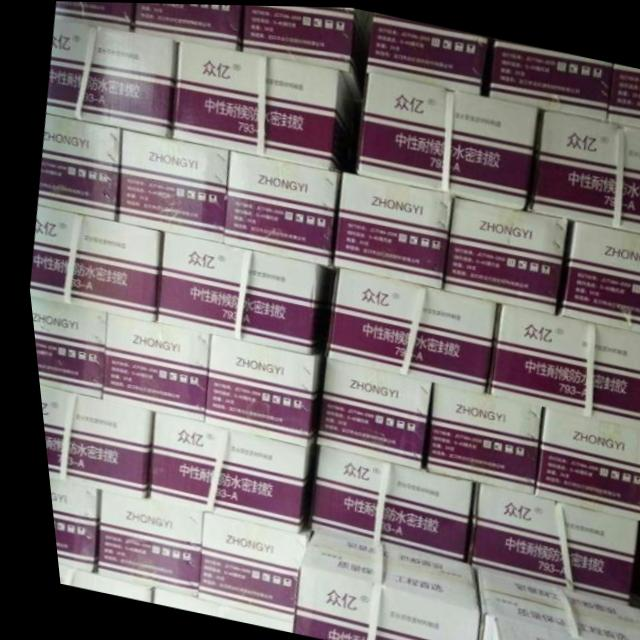box: (352, 70, 536, 208), (168, 39, 355, 173), (149, 231, 322, 355), (279, 527, 468, 640), (454, 481, 628, 603), (318, 267, 490, 390), (137, 411, 309, 533), (480, 301, 640, 428), (300, 443, 466, 561), (44, 17, 177, 138), (24, 205, 158, 322), (437, 193, 563, 313), (218, 149, 339, 271), (526, 105, 640, 232), (328, 171, 449, 288), (195, 333, 318, 447), (416, 380, 536, 493), (463, 563, 639, 640), (523, 405, 640, 518), (183, 511, 301, 623), (112, 128, 226, 243), (307, 356, 425, 467), (31, 386, 146, 499), (92, 311, 203, 422), (241, 4, 366, 99), (84, 490, 192, 598), (550, 217, 640, 332), (363, 11, 489, 93), (487, 37, 613, 118), (33, 113, 119, 222), (24, 296, 99, 398), (138, 589, 280, 632), (134, 2, 245, 51), (39, 479, 91, 574), (46, 565, 140, 603), (479, 615, 587, 640), (54, 1, 137, 32), (605, 61, 640, 125)
